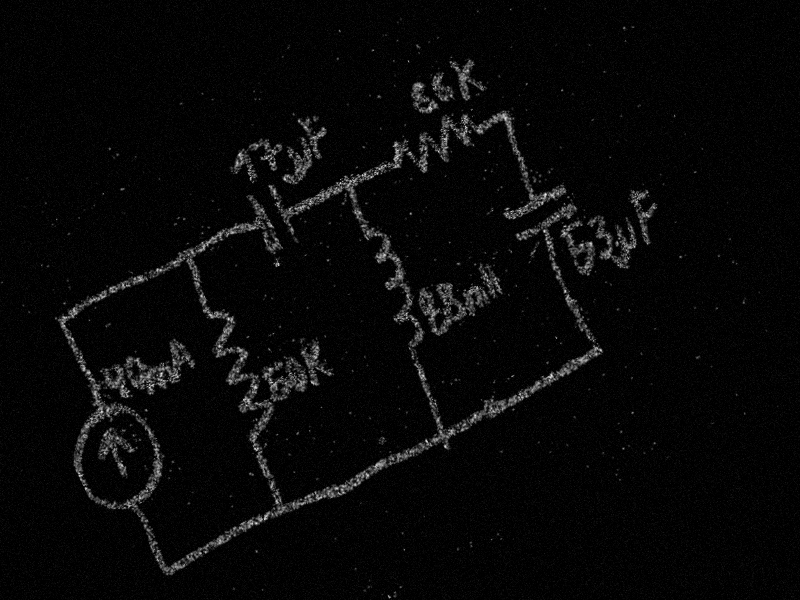0: (118, 350, 155, 396), (279, 353, 314, 395)
1: (219, 143, 265, 196)
3: (582, 212, 622, 264)
4: (96, 357, 138, 407)
5: (555, 217, 606, 281), (257, 357, 298, 406)
6: (425, 67, 459, 107)
7: (245, 130, 292, 180)
8: (411, 281, 458, 341), (432, 276, 471, 328), (403, 77, 441, 121)
A: (159, 331, 203, 383)
F: (621, 182, 672, 245), (296, 109, 340, 163)
H: (475, 259, 508, 302)
k: (446, 49, 490, 103), (294, 338, 337, 389)
m: (140, 359, 179, 397), (458, 281, 494, 316)
u: (281, 136, 322, 185), (609, 216, 647, 261)
